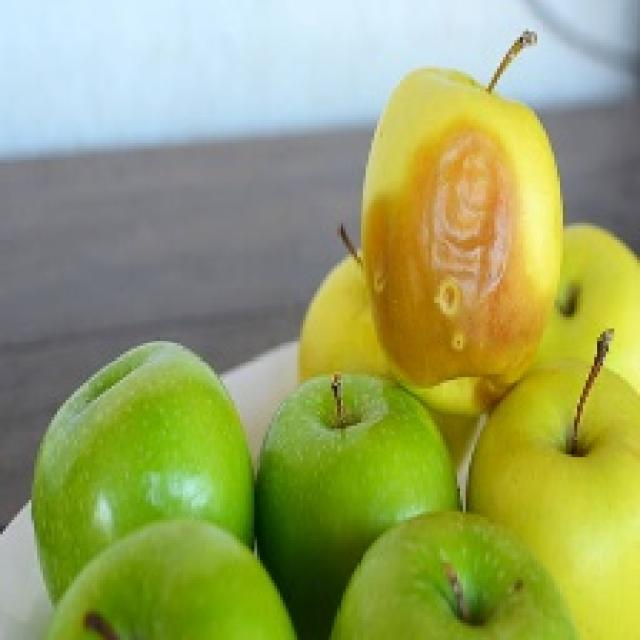rotten_apple: (369, 72, 550, 400)
